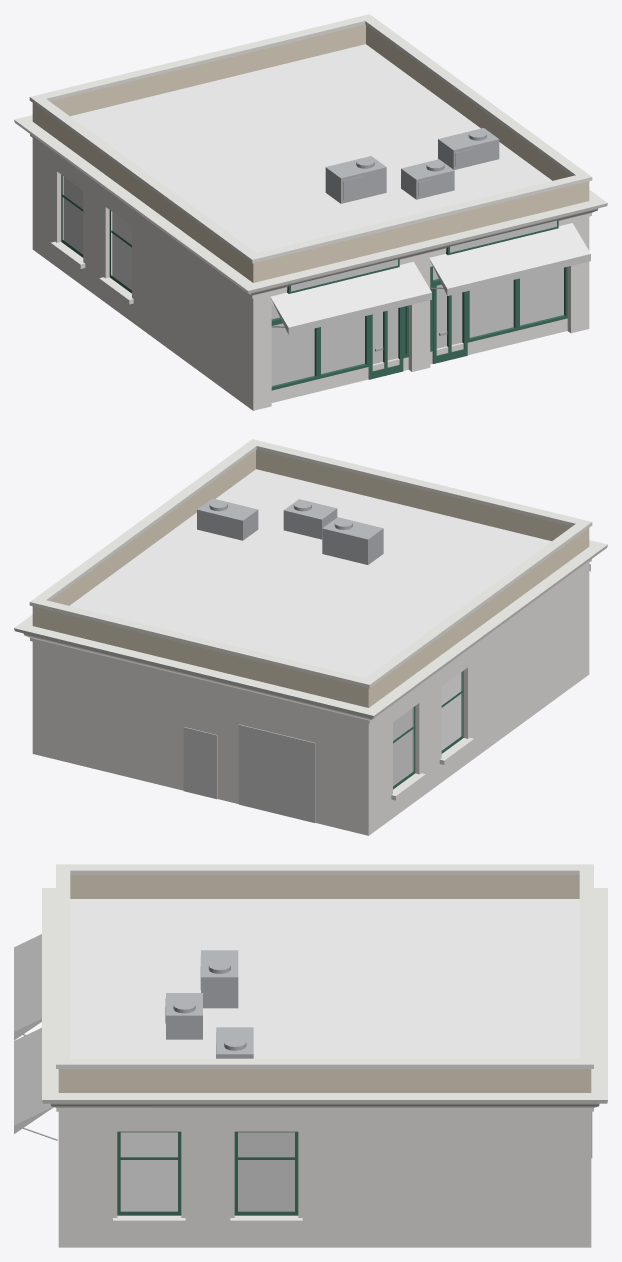
File: midtown_w44f0b.glb
3 renders of one model, top to bottom at view 1: azimuth 30°, elevation 25°; view 2: azimuth 150°, elevation 25°; view 3: azimuth 270°, elevation 25°, orthographic. The views are drawn at different scales.
Parts seen in each view (by area): view 1: midtown_w44f0b_Trim, midtown_w44f0b_Roof, midtown_w44f0b_Walls, midtown_w44f0b_WindowsLit, midtown_w44f0b_Awning, midtown_w44f0b_Frames, midtown_w44f0b_Details, midtown_w44f0b_Sign, midtown_w44f0b_Glass; view 2: midtown_w44f0b_Trim, midtown_w44f0b_Roof, midtown_w44f0b_Walls, midtown_w44f0b_Doors, midtown_w44f0b_Details, midtown_w44f0b_WindowsLit, midtown_w44f0b_Glass, midtown_w44f0b_Frames; view 3: midtown_w44f0b_Trim, midtown_w44f0b_Roof, midtown_w44f0b_Walls, midtown_w44f0b_Details, midtown_w44f0b_Awning, midtown_w44f0b_Glass, midtown_w44f0b_WindowsLit, midtown_w44f0b_Frames.
Boxes of the visible parts, x1,y1,x2,y2 form: midtown_w44f0b_Trim: (14, 14, 607, 410); midtown_w44f0b_Roof: (70, 44, 552, 252); midtown_w44f0b_Walls: (32, 24, 589, 282); midtown_w44f0b_WindowsLit: (63, 176, 563, 385); midtown_w44f0b_Awning: (270, 223, 590, 334); midtown_w44f0b_Frames: (61, 175, 567, 390); midtown_w44f0b_Details: (271, 128, 499, 351); midtown_w44f0b_Sign: (291, 220, 556, 291); midtown_w44f0b_Glass: (112, 212, 131, 290); midtown_w44f0b_Trim: (14, 439, 607, 835); midtown_w44f0b_Roof: (69, 469, 551, 677); midtown_w44f0b_Walls: (32, 449, 589, 707); midtown_w44f0b_Doors: (183, 724, 315, 822); midtown_w44f0b_Details: (197, 498, 383, 564); midtown_w44f0b_WindowsLit: (393, 708, 412, 786); midtown_w44f0b_Glass: (441, 673, 460, 750); midtown_w44f0b_Frames: (393, 671, 463, 789); midtown_w44f0b_Trim: (42, 864, 607, 1247); midtown_w44f0b_Roof: (70, 899, 579, 1058); midtown_w44f0b_Walls: (58, 875, 591, 1092); midtown_w44f0b_Details: (23, 950, 253, 1140); midtown_w44f0b_Awning: (14, 934, 53, 1133); midtown_w44f0b_Glass: (120, 1132, 177, 1211); midtown_w44f0b_WindowsLit: (238, 1132, 294, 1211); midtown_w44f0b_Frames: (117, 1131, 298, 1215).
Bounding box in the file's own units: 47.12 × 19.62 × 55.76.
